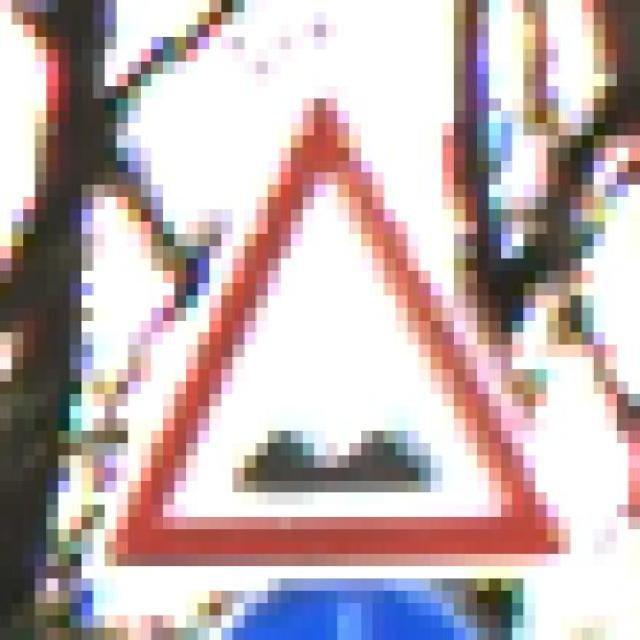Uneven Road: (81, 74, 582, 566)
